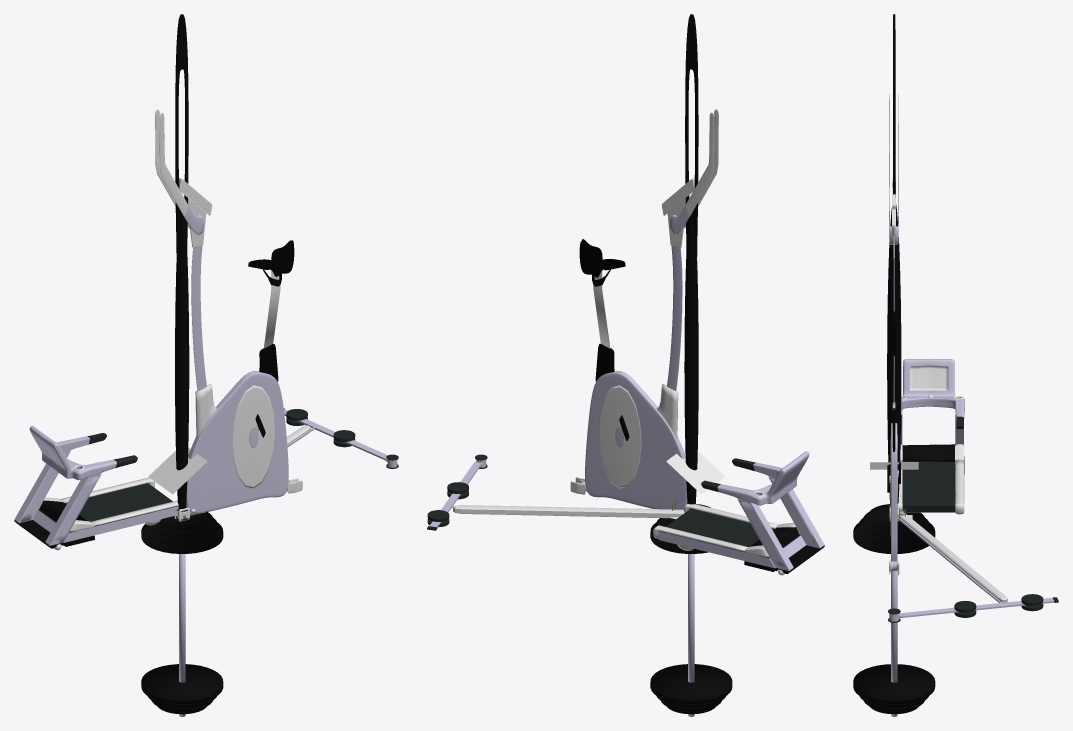
The model's file is uploads_files_1030508_gym.fbx.
3 views of the same model, side by side, from view 1: azimuth 30°, elevation 25°; view 2: azimuth 150°, elevation 25°; view 3: azimuth 270°, elevation 25° (orthographic).
Parts seen in each view (by area): view 1: spinning bike, treadmill, weigtlifing, weight, abs, Plane; view 2: spinning bike, treadmill, weight, weigtlifing, abs, Plane; view 3: treadmill, weigtlifing, weight, abs, spinning bike.
Part boxes in pixels (<box>): spinning bike: <box>155,109,302,521</box>; treadmill: <box>14,426,178,550</box>; weigtlifing: <box>141,511,223,716</box>; weight: <box>175,14,189,509</box>; abs: <box>176,408,398,520</box>; Plane: <box>148,447,207,494</box>; spinning bike: <box>570,109,718,509</box>; treadmill: <box>653,451,824,575</box>; weight: <box>684,14,698,508</box>; weigtlifing: <box>650,504,732,716</box>; abs: <box>427,454,684,530</box>; Plane: <box>666,447,724,494</box>; treadmill: <box>897,359,964,514</box>; weigtlifing: <box>853,504,935,716</box>; weight: <box>887,14,901,507</box>; abs: <box>888,507,1058,622</box>; spinning bike: <box>887,95,900,575</box>.
Size of the model in its own units: 8077 by 15527 by 4123.
